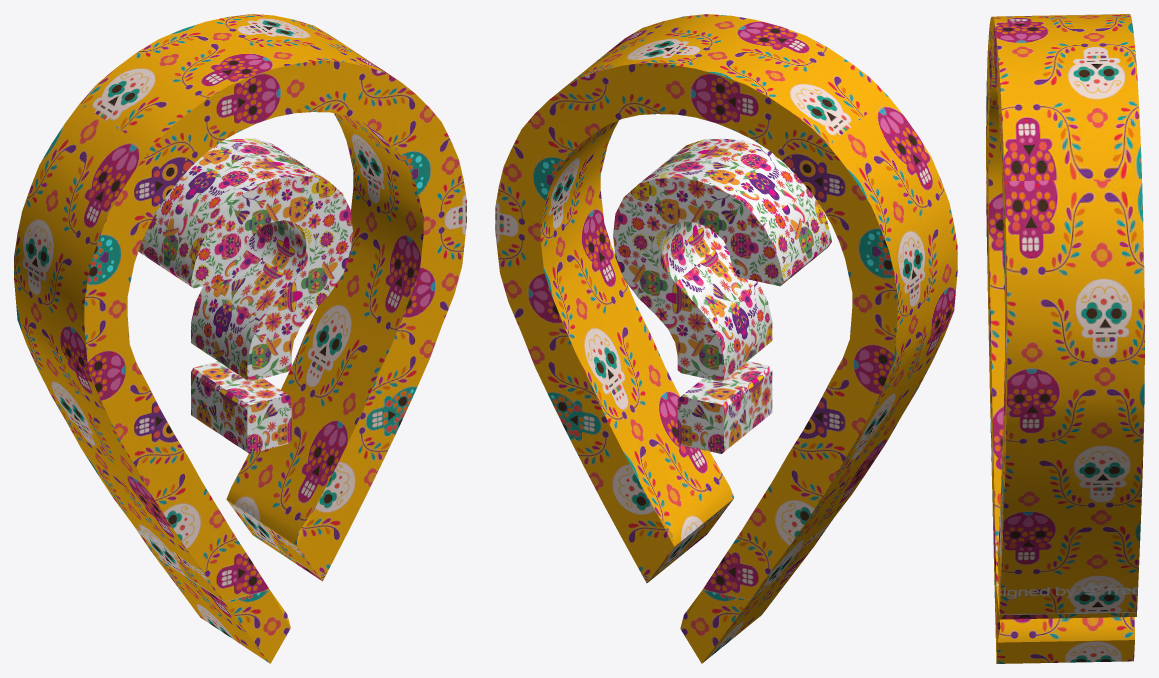
Rendered from pin.obj.
The picture shows the model from 3 angles, left to right: view 1: azimuth 30°, elevation 25°; view 2: azimuth 150°, elevation 25°; view 3: azimuth 270°, elevation 25°; orthographic projection. The views are drawn at different scales.
Visible parts, largest first — view 1: model.020; view 2: model.020; view 3: model.020.
Part boxes in pixels (bbox=[...]): model.020: bbox=[14, 14, 466, 663]; model.020: bbox=[495, 14, 957, 663]; model.020: bbox=[986, 14, 1144, 663].
Bounding box in the file's own units: 3.02 × 4.32 × 0.9919.
2 materials, 2 textured.
